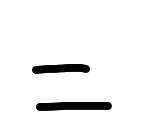eqv: (31, 65, 111, 110)
